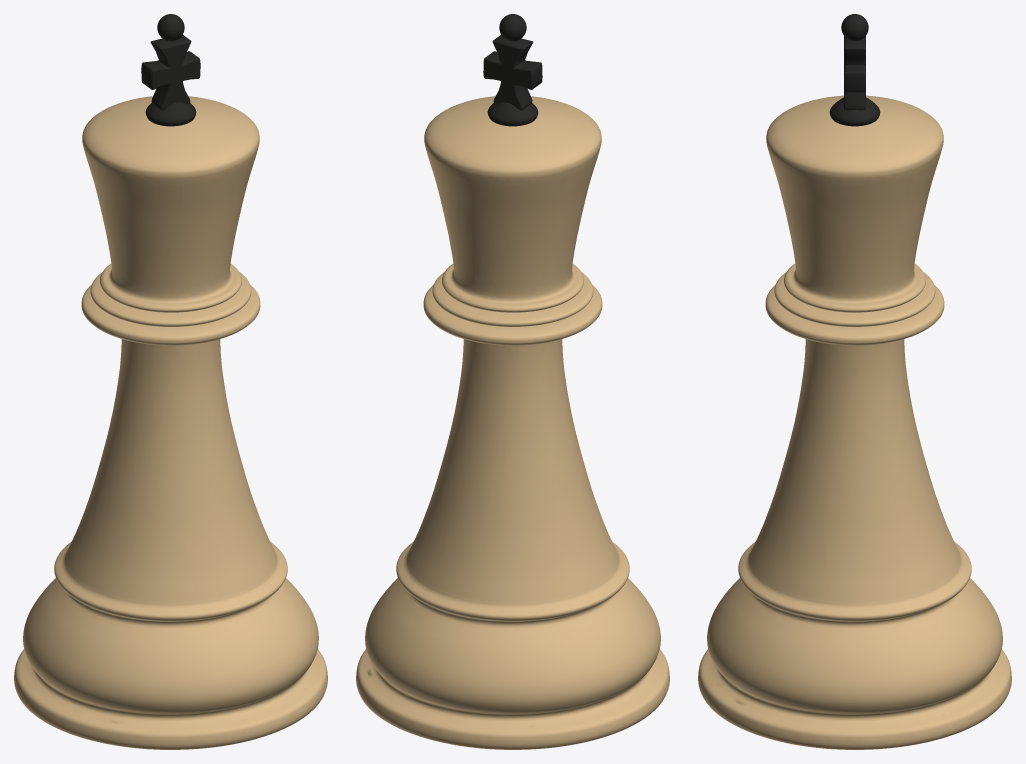
Rendered from king-cross.glb.
3 renders of one model, left to right at view 1: azimuth 30°, elevation 25°; view 2: azimuth 150°, elevation 25°; view 3: azimuth 270°, elevation 25°, orthographic.
Visible parts, largest first — view 1: King cross.001; view 2: King cross.001; view 3: King cross.001.
Boxes of the visible parts, box(x1,y1,x2,y2) form: King cross.001: box(14, 14, 327, 749); King cross.001: box(356, 14, 669, 749); King cross.001: box(698, 14, 1011, 749).
Size of the model in its own units: 0.0413 by 0.0984 by 0.0413.
